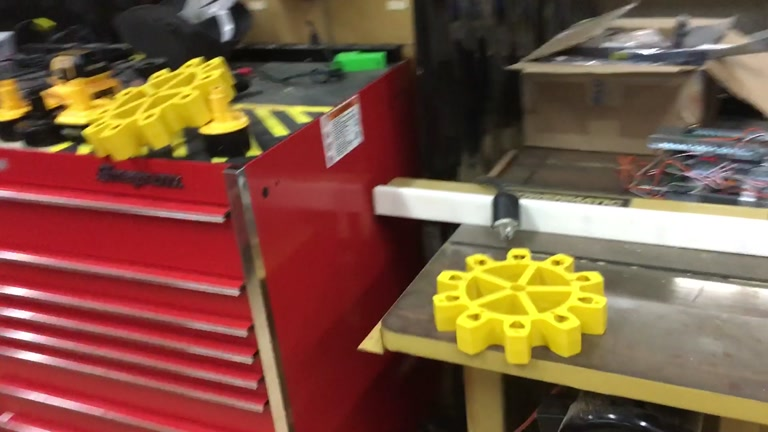gear: (430, 246, 608, 364), (82, 54, 239, 161)
